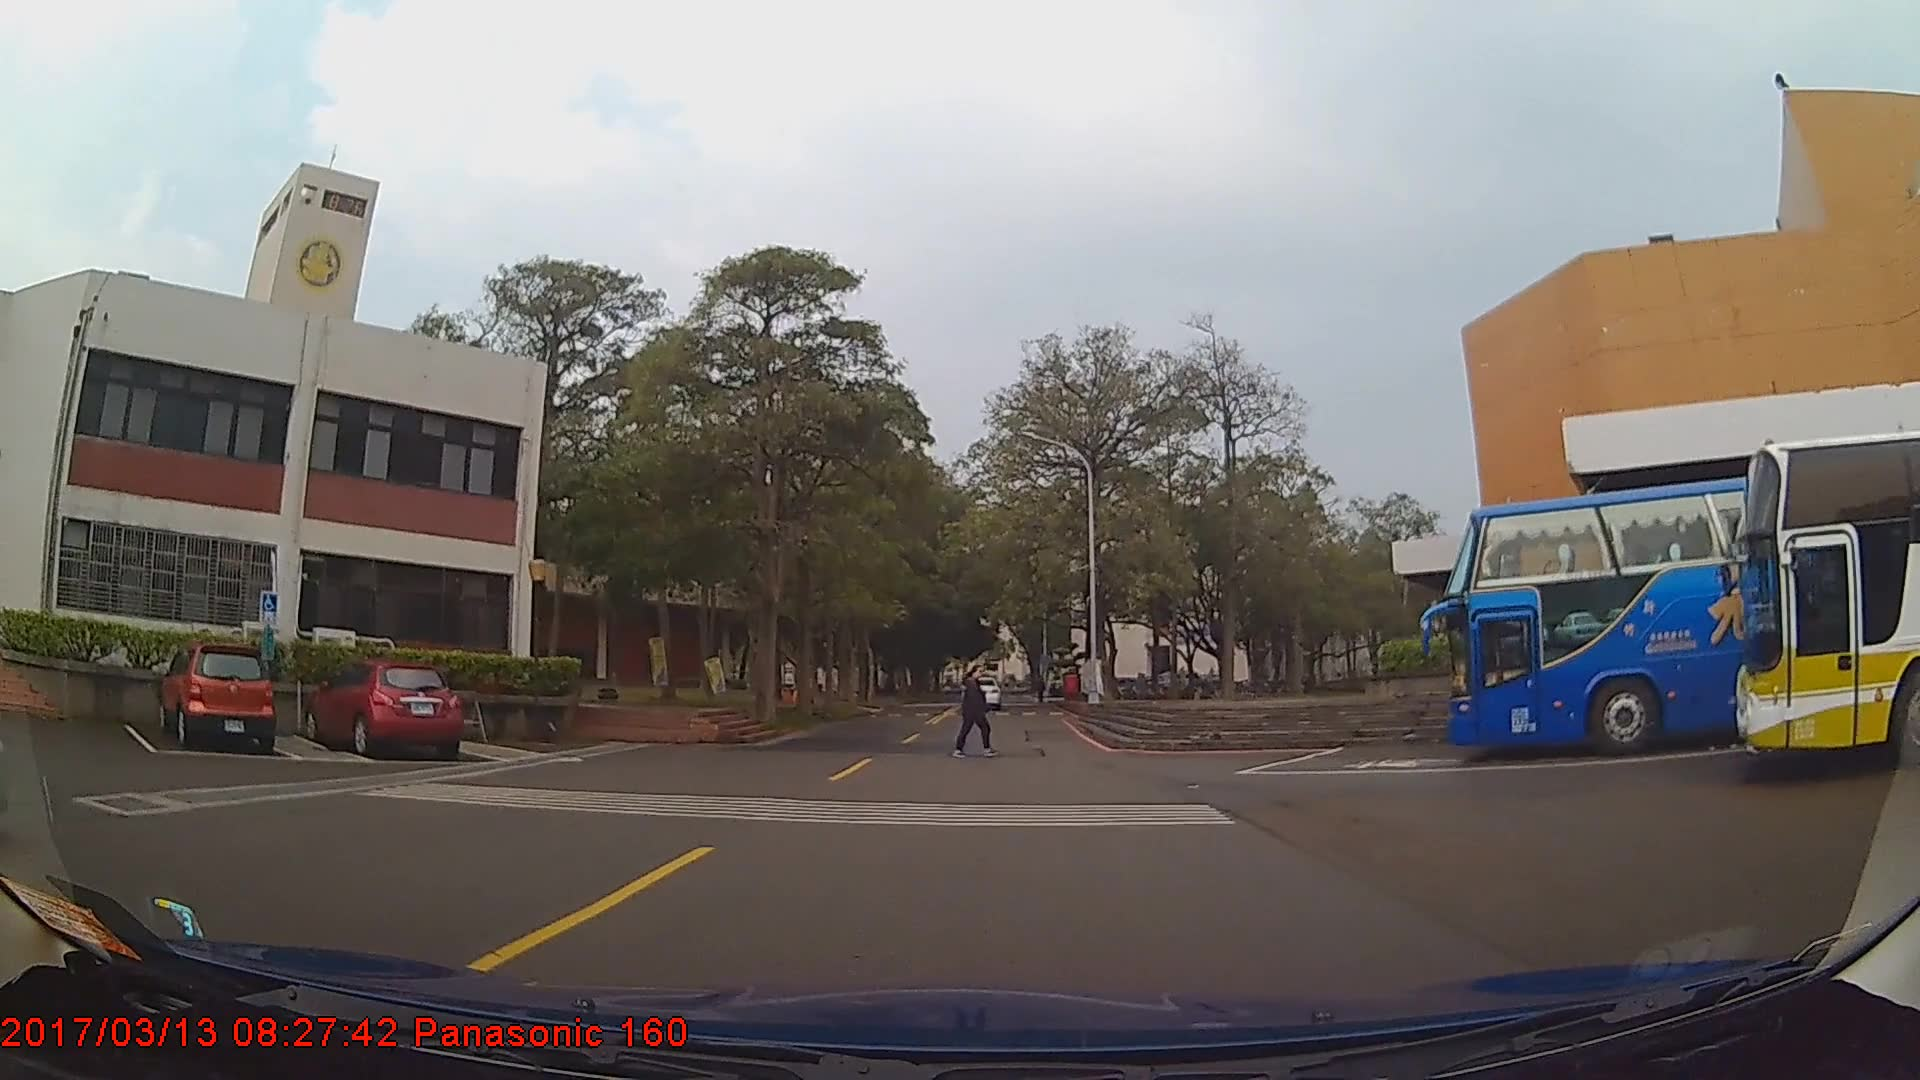pedestrian: (951, 663, 999, 761)
vehicle: (1448, 454, 1920, 759), (1737, 426, 1920, 773), (300, 662, 459, 760), (156, 643, 274, 754)
